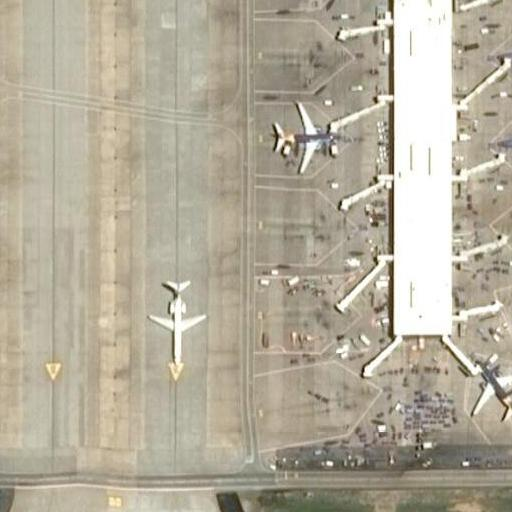Aircraft: (152, 271, 209, 370), (270, 97, 340, 173), (467, 349, 512, 424), (489, 17, 512, 89), (493, 111, 512, 167)
